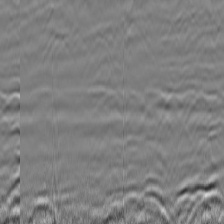cavities: (0, 74, 71, 170), (178, 75, 224, 171)
